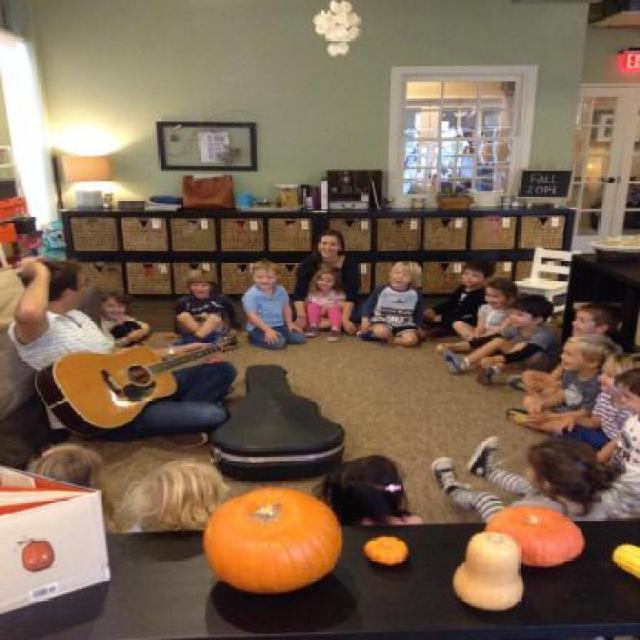Pumpkin: (198, 486, 344, 596), (450, 530, 530, 612), (484, 506, 584, 568), (366, 537, 408, 566)
